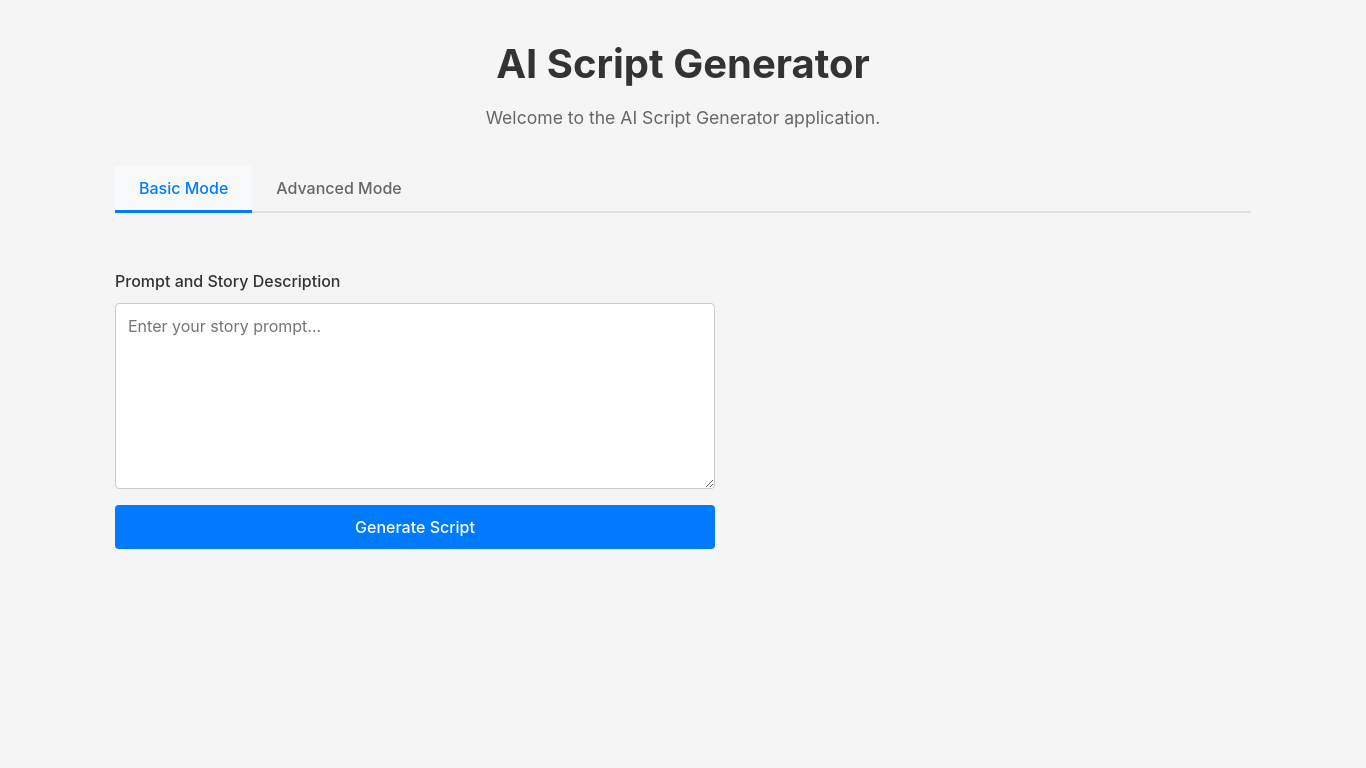
Test: App › switches to advanced mode when advanced tab is clicked
Click the tab "Advanced Mode": point(339, 190) x1=252 y1=166 x2=426 y2=213
(page scrolled)
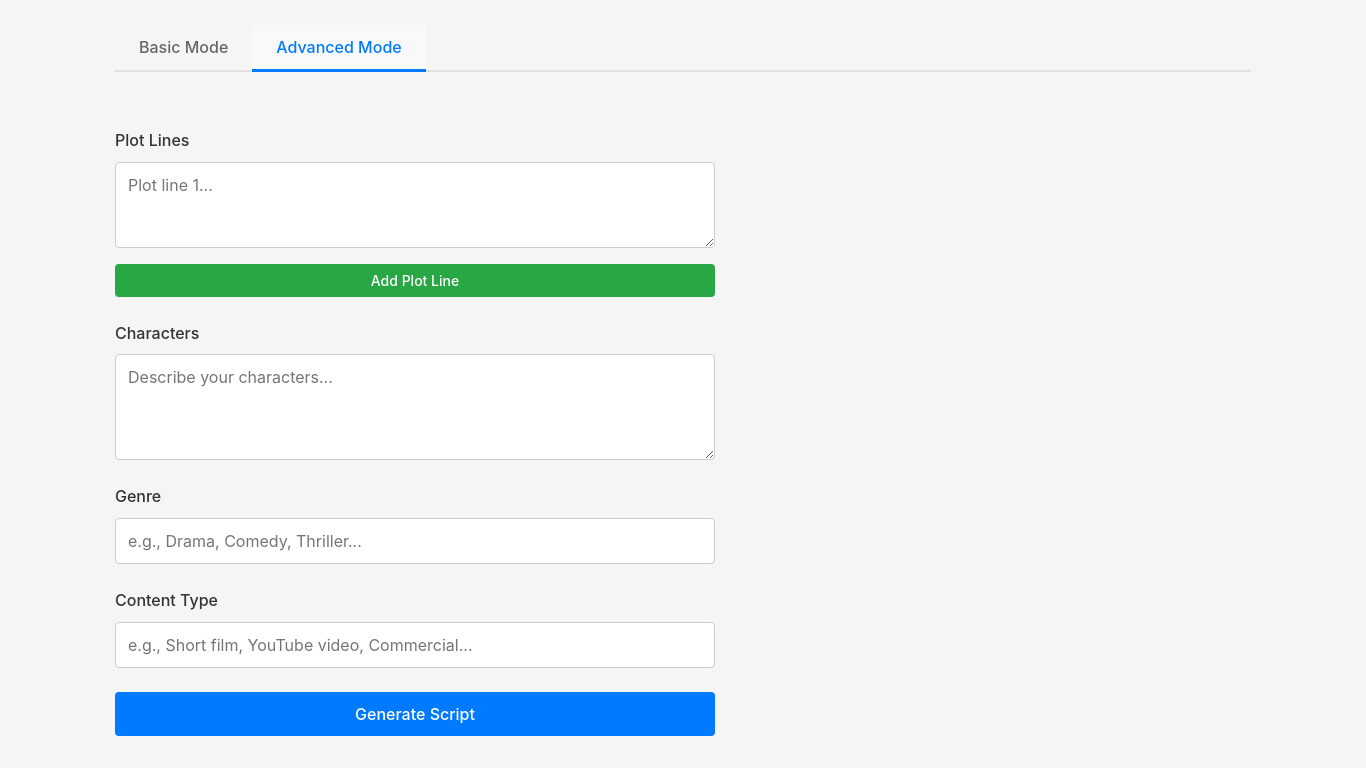
expect the text box labelled "Plot Lines" is shown: met, box x1=115 y1=162 x2=715 y2=248
expect the text box labelled "Characters" is shown: met, box x1=115 y1=354 x2=715 y2=460
expect the field labelled "Genre" is shown: met, box x1=115 y1=518 x2=715 y2=564
